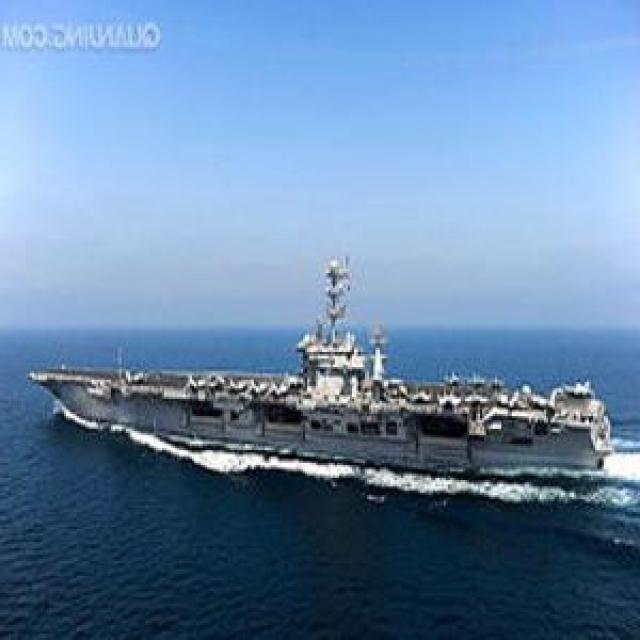navalvessels: (25, 222, 604, 494)
